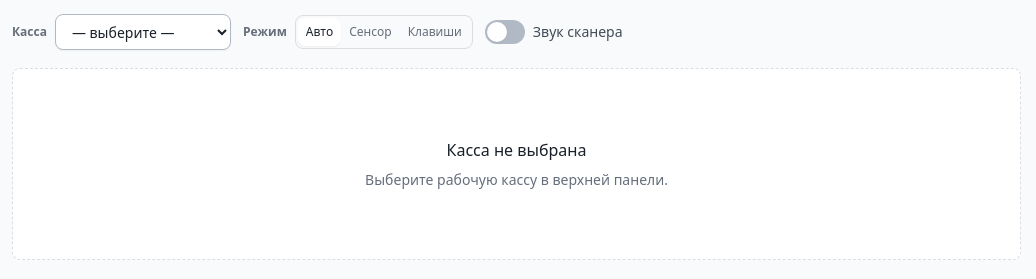
Scenario: POSPage › requires a manual choice when two or more registers exist
The width and height of the screenshot is (1036, 279).
Expected: the field labelled "Наличные в кассе на начало смены" is not shown
Choosing a register proceeds to the shift form.
Select "Касса 2" in the dropdown labelled "Касса" at (143, 32), box x1=55 y1=14 x2=231 y2=50
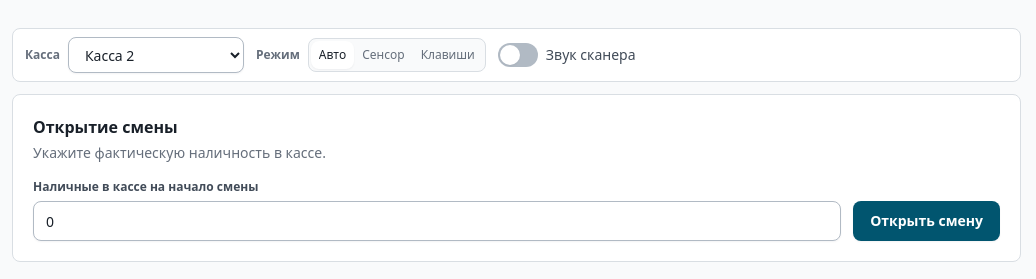
Result: the field labelled "Наличные в кассе на начало смены" is shown at x1=33 y1=201 x2=841 y2=241
